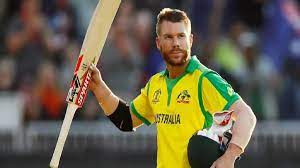top left: (64, 95, 73, 104)
top right: (78, 102, 86, 111)
